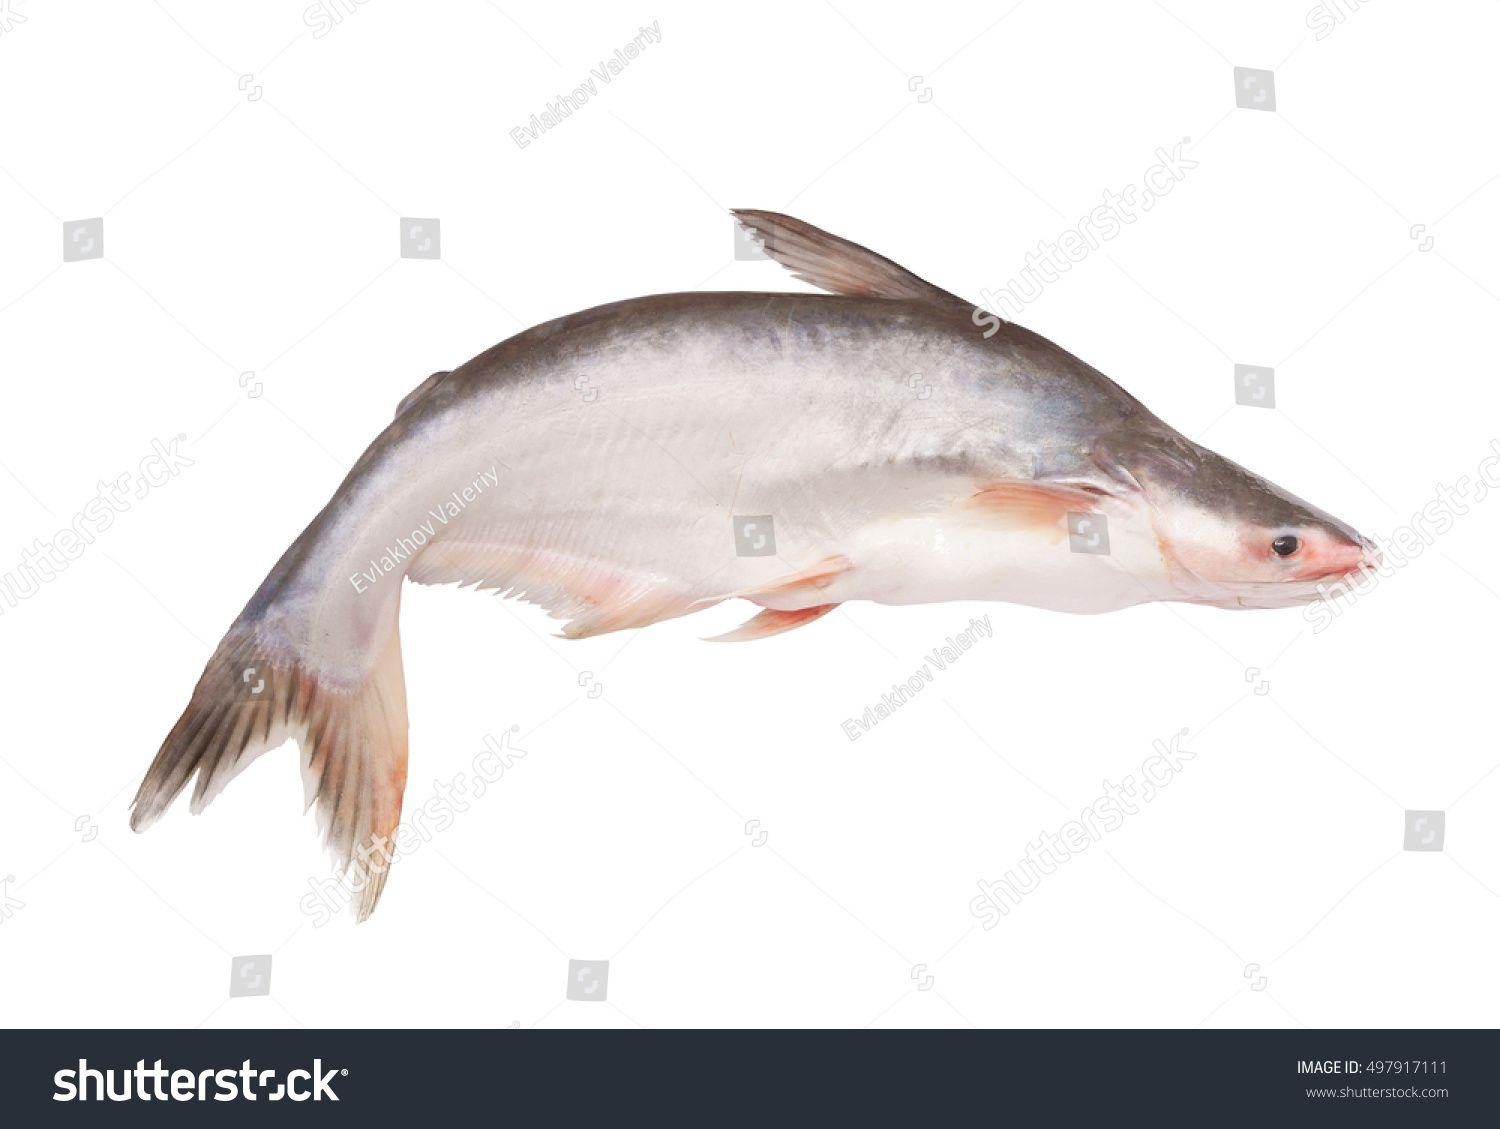Pangasius: (132, 184, 1391, 920)
